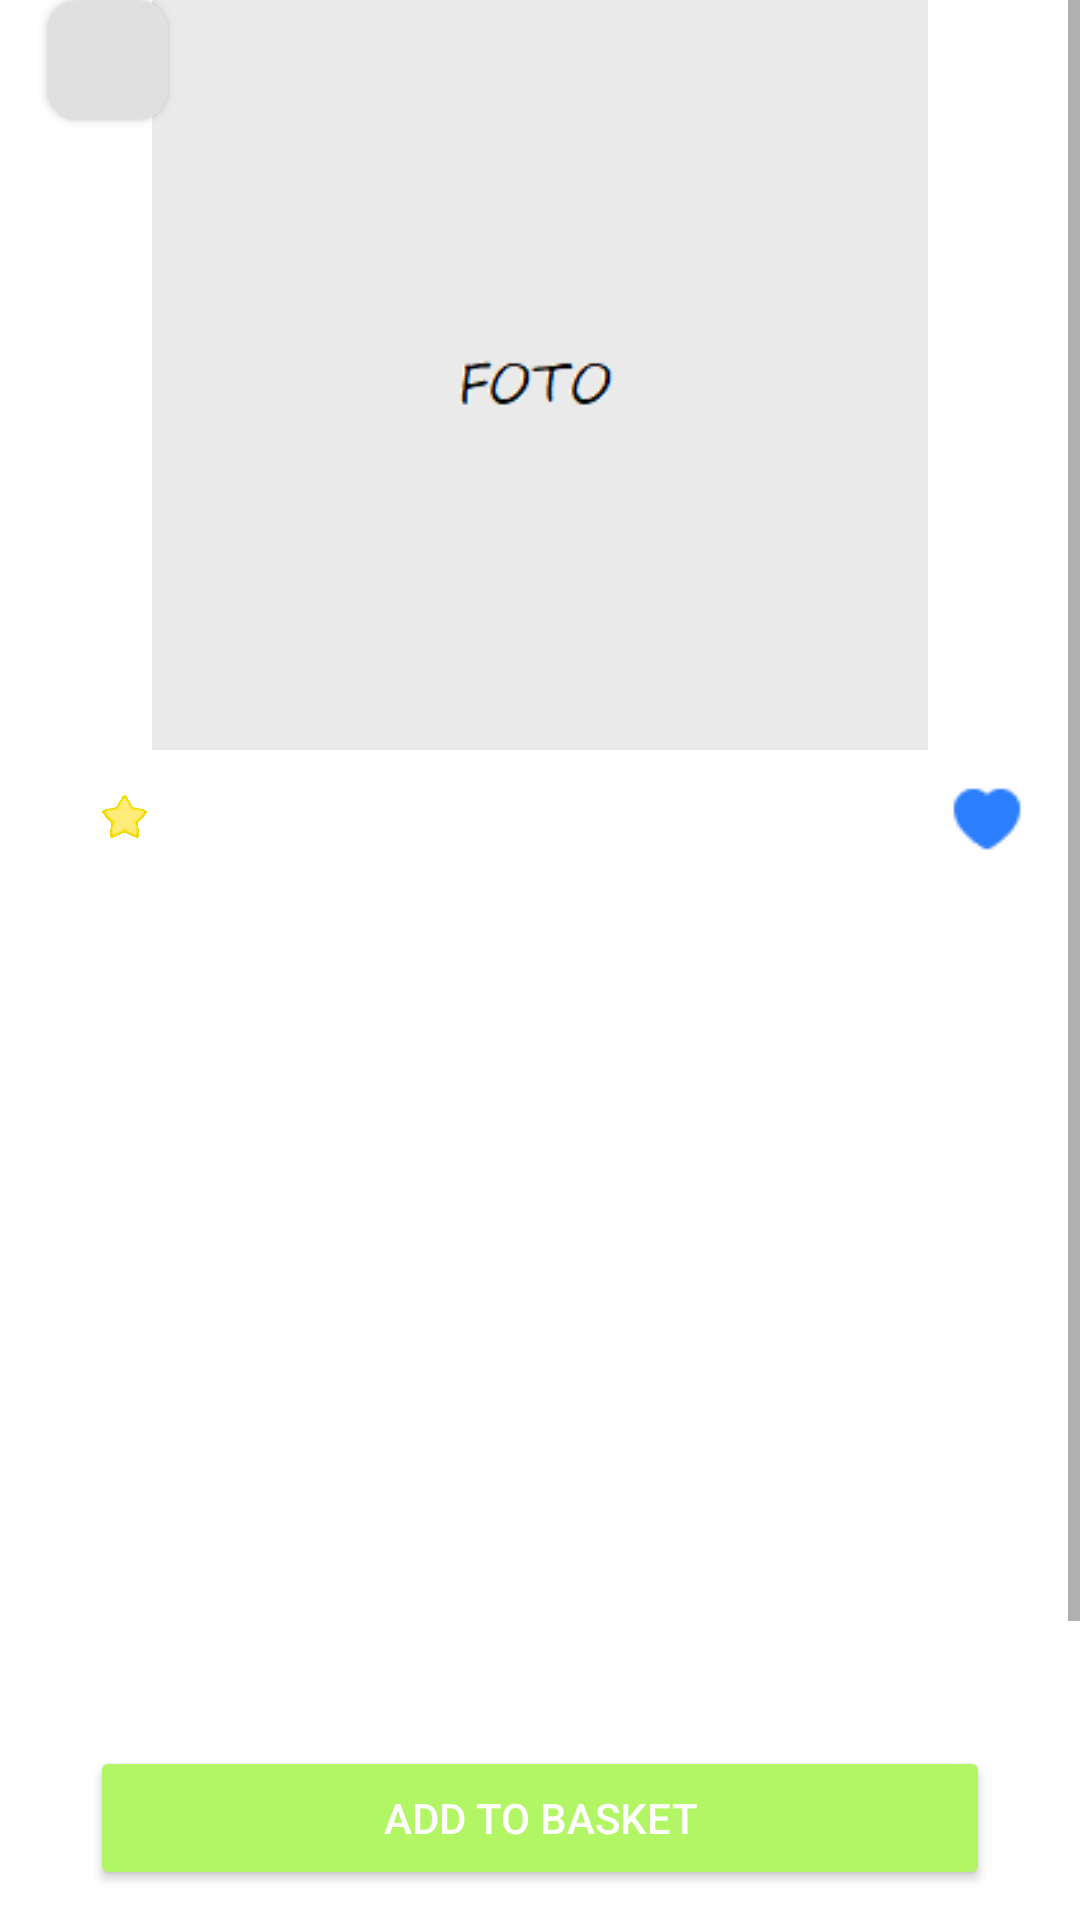

Screen size 1080 × 1920. Icon name, then its center in pixels as [x,y]:
raiting: [124,816]
